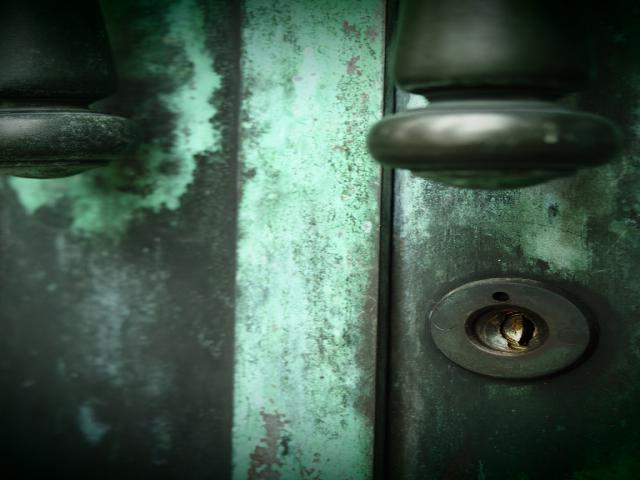Door-handle: (364, 0, 623, 191), (0, 0, 143, 181)
